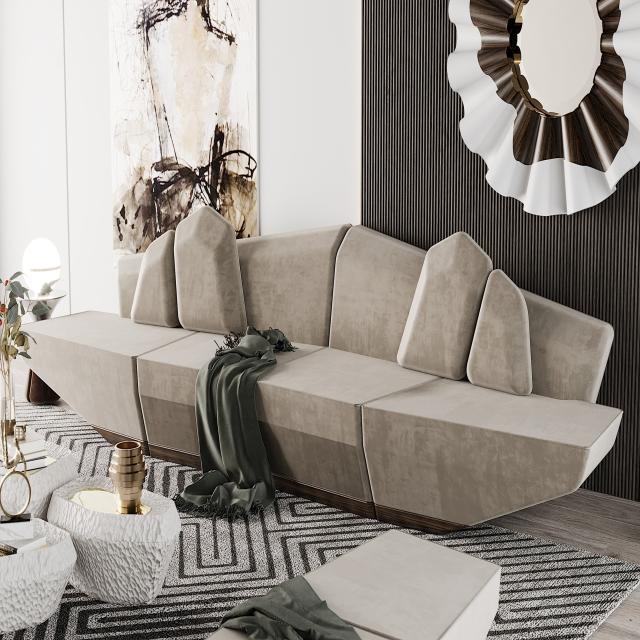sofa: (16, 206, 624, 534)
